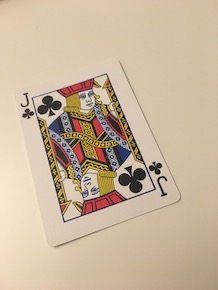JackOfClubs: (15, 56, 184, 248)
